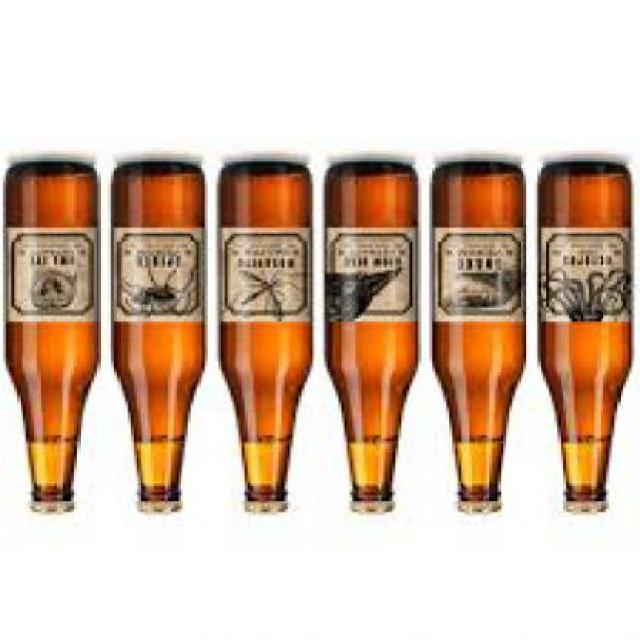GLASS: (432, 165, 530, 498), (114, 168, 211, 500), (219, 168, 316, 500), (540, 168, 637, 500), (8, 165, 102, 501), (327, 168, 421, 503)
METAL: (37, 500, 80, 518), (142, 500, 182, 518), (464, 500, 504, 518), (358, 504, 402, 518), (568, 504, 612, 518), (247, 500, 290, 514)
